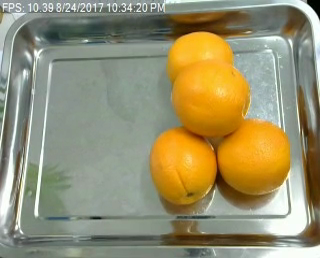Orange: (169, 59, 251, 137), (216, 117, 292, 194), (150, 127, 217, 207), (167, 31, 235, 86)
